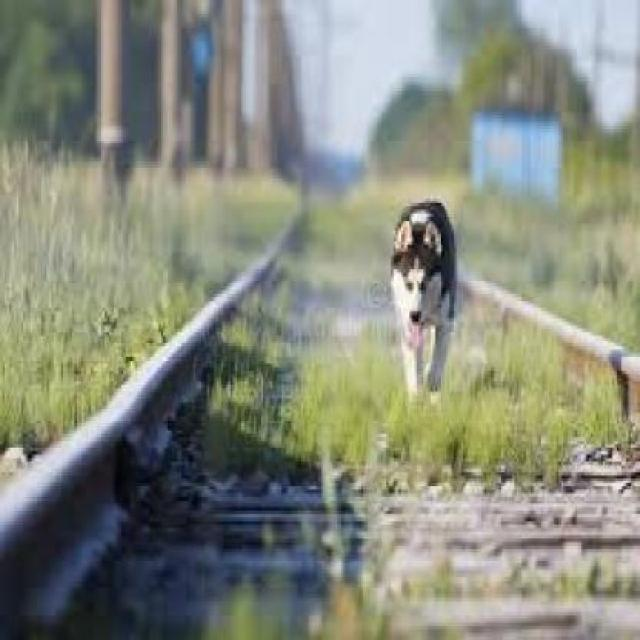danger: (382, 188, 468, 426)
rail: (2, 166, 640, 640)
